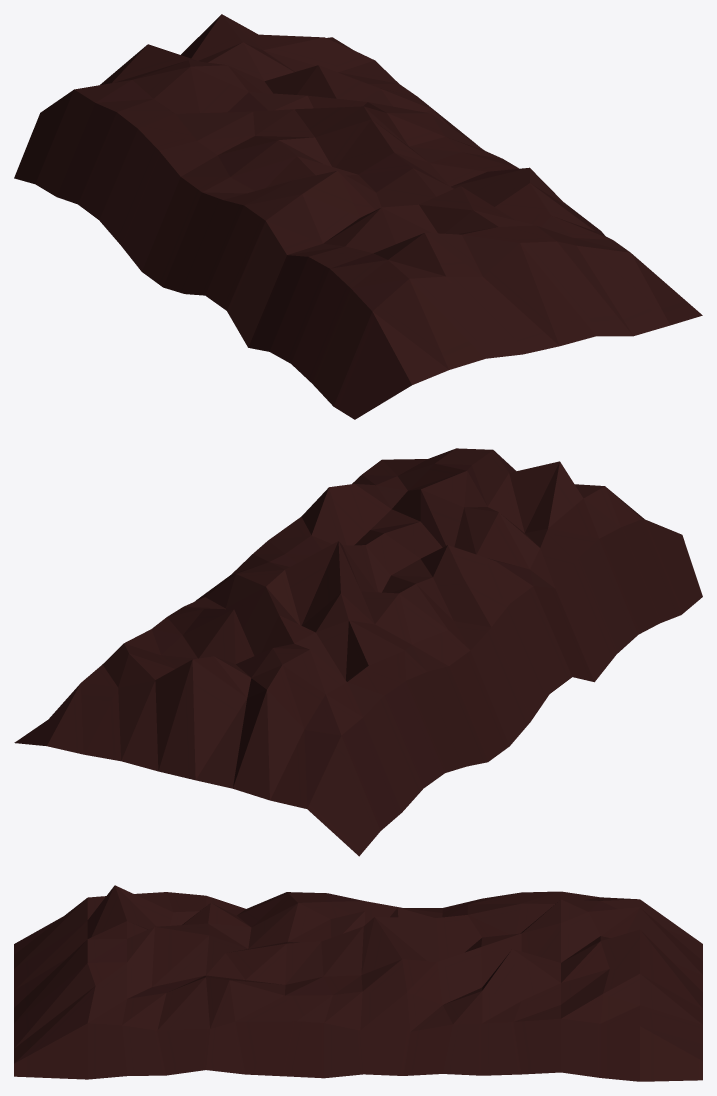
File: Mountains 1.fbx
3 views of the same model, one above another, from view 1: azimuth 30°, elevation 25°; view 2: azimuth 150°, elevation 25°; view 3: azimuth 270°, elevation 25° (orthographic). The views are drawn at different scales.
Parts seen in each view (by area): view 1: Plane; view 2: Plane; view 3: Plane.
Boxes of the visible parts, x1=… form: Plane: x1=14, y1=14, x2=702, y2=419; Plane: x1=14, y1=448, x2=702, y2=856; Plane: x1=14, y1=885, x2=702, y2=1081.
Size of the model in its own units: 562 by 238 by 1091.
